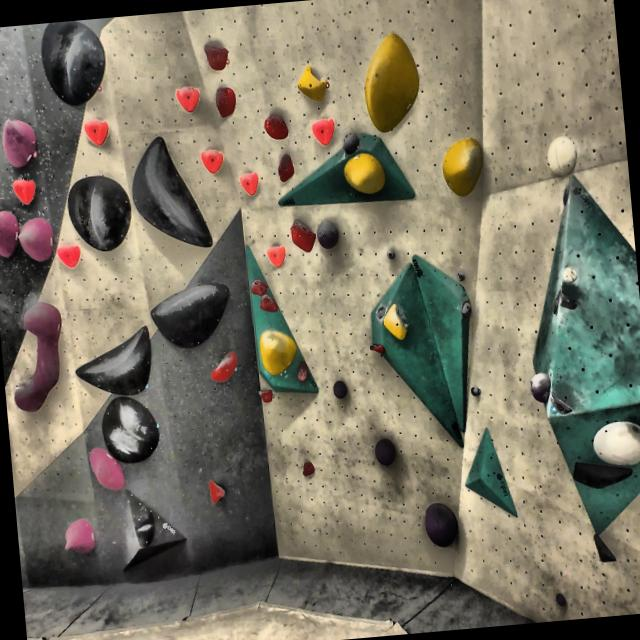Hold: (128, 130, 214, 252), (8, 300, 70, 416), (361, 32, 424, 137), (148, 276, 232, 352), (36, 19, 108, 107), (73, 323, 155, 398), (65, 171, 136, 256), (99, 392, 164, 464), (439, 134, 491, 202), (254, 324, 300, 378), (424, 500, 464, 555), (0, 114, 41, 167), (591, 420, 640, 464), (341, 150, 386, 197), (572, 456, 634, 490), (17, 214, 58, 263), (86, 444, 125, 492), (290, 62, 329, 104), (542, 132, 578, 176), (63, 517, 98, 559), (382, 300, 412, 342), (291, 217, 319, 260), (131, 503, 157, 549), (0, 205, 21, 258), (210, 352, 242, 384), (214, 82, 238, 121), (372, 436, 399, 470), (310, 116, 338, 148), (314, 217, 341, 250), (9, 173, 37, 204), (83, 119, 115, 146), (592, 534, 620, 564), (529, 372, 553, 406), (202, 42, 230, 71), (200, 145, 227, 173), (264, 109, 288, 140), (548, 289, 576, 315), (262, 240, 288, 268), (176, 84, 200, 114), (56, 243, 82, 270), (274, 151, 296, 181), (206, 476, 228, 506), (550, 392, 574, 418), (258, 294, 284, 316), (238, 170, 260, 194), (560, 182, 580, 206), (332, 376, 352, 400), (342, 130, 361, 154), (560, 260, 578, 284), (296, 362, 312, 386), (248, 277, 268, 296), (298, 456, 316, 475), (371, 302, 387, 322), (461, 300, 473, 322), (259, 387, 274, 402), (556, 592, 568, 610), (470, 384, 483, 398), (455, 268, 466, 282), (386, 248, 397, 261)
